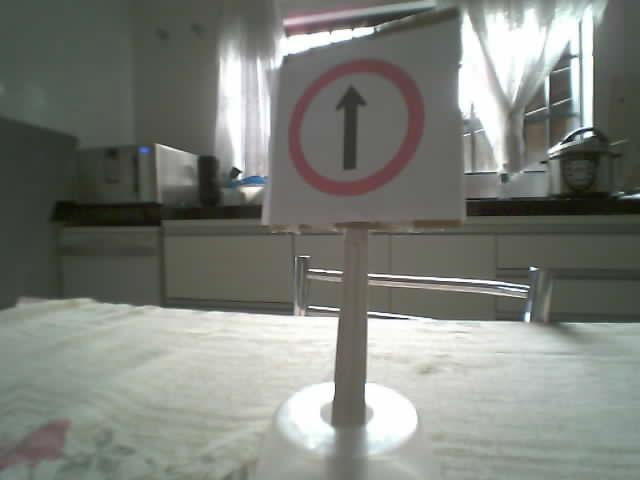R-26_frente: (287, 59, 423, 197)
